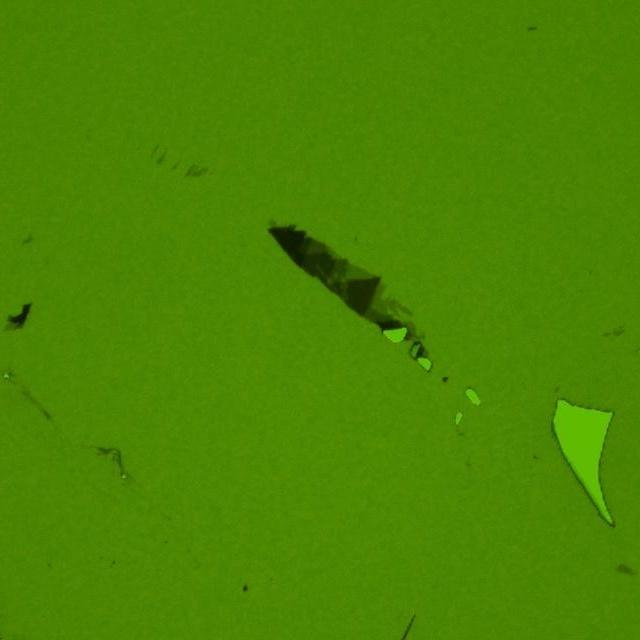monolayer-eWW4: (370, 278, 397, 314), (343, 262, 373, 285)
